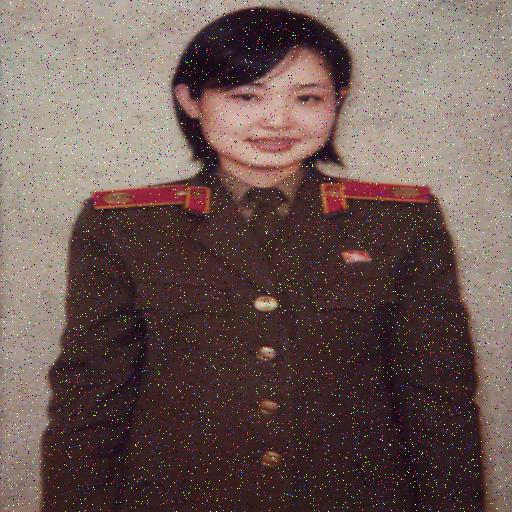north army: (39, 31, 466, 512)
